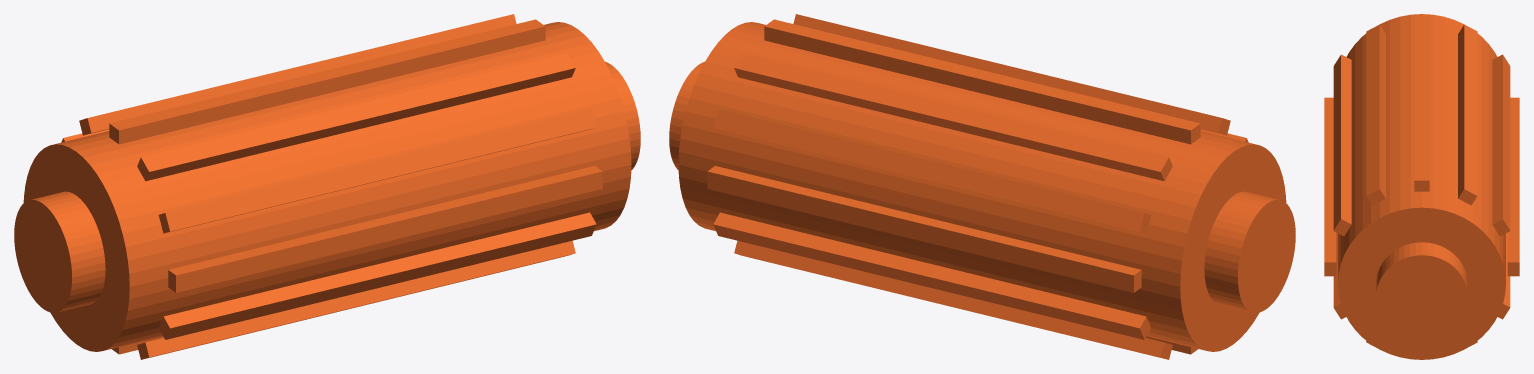
Rendered from rotor.obj.
3 views of the same model, side by side, from view 1: azimuth 30°, elevation 25°; view 2: azimuth 150°, elevation 25°; view 3: azimuth 270°, elevation 25° (orthographic). The views are drawn at different scales.
Parts seen in each view (by area): view 1: rotor; view 2: rotor; view 3: rotor.
Part boxes in pixels (x1,y1,x2,y2): rotor: [14, 14, 640, 359]; rotor: [669, 14, 1295, 359]; rotor: [1324, 14, 1519, 359].
Bounding box in the file's own units: 0.34 × 0.128 × 0.128.
